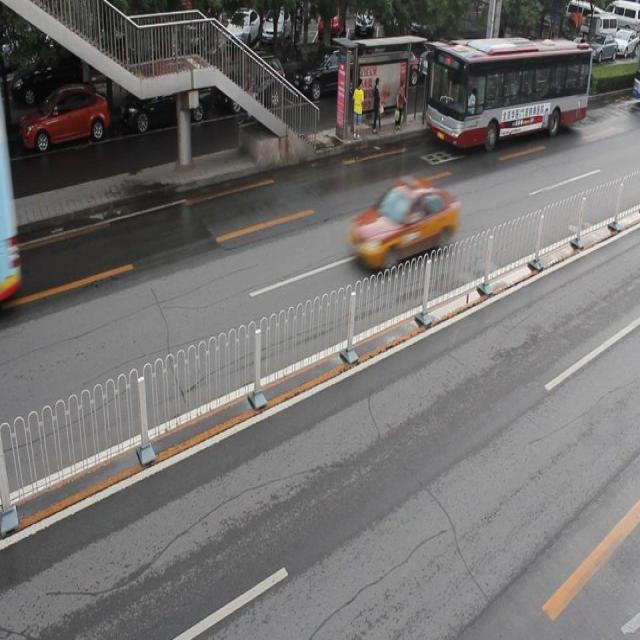car: (347, 174, 454, 273), (18, 82, 108, 148), (118, 72, 210, 127), (220, 49, 285, 112), (292, 42, 361, 100)
van: (424, 41, 590, 147)
